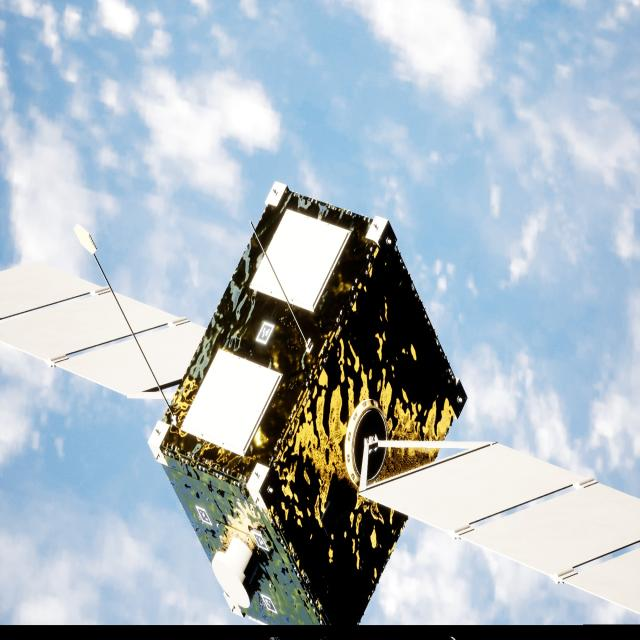satellite: (0, 183, 640, 627)
